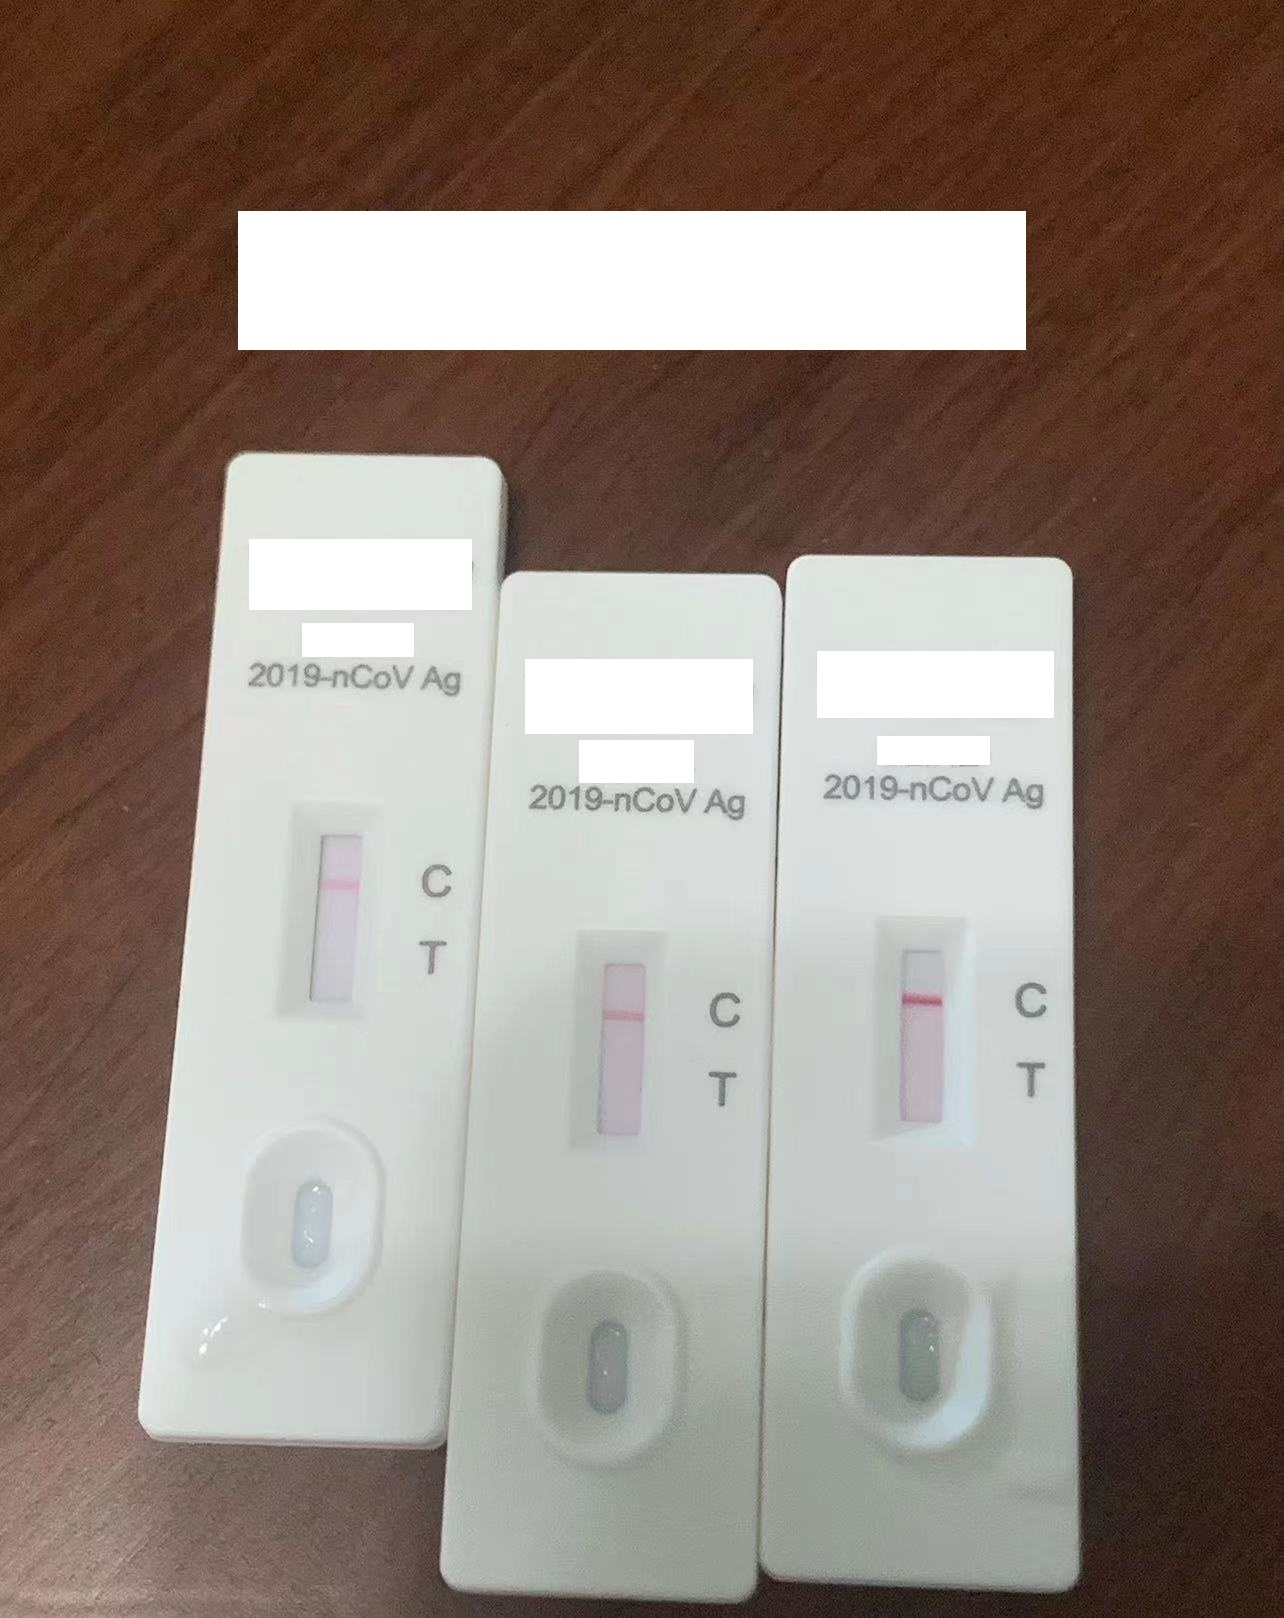negative: (870, 918, 969, 1137), (282, 801, 385, 1011), (568, 930, 666, 1148)
